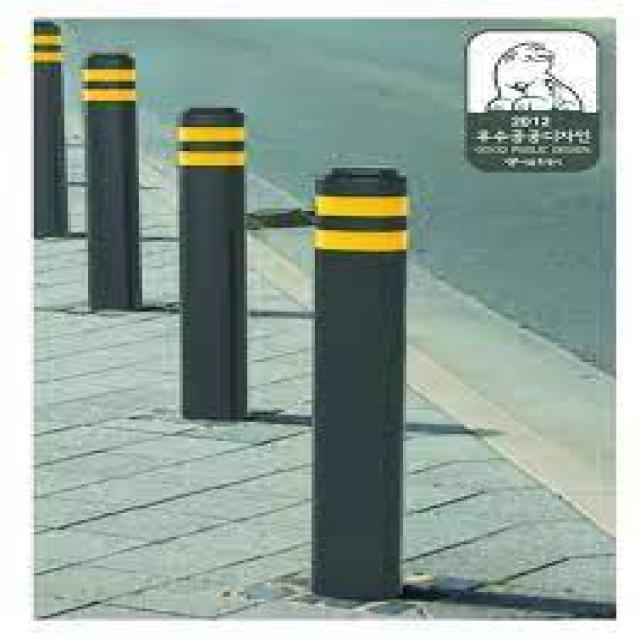bollard: (309, 165, 411, 605), (173, 104, 254, 424), (70, 46, 159, 313), (27, 18, 76, 247)
